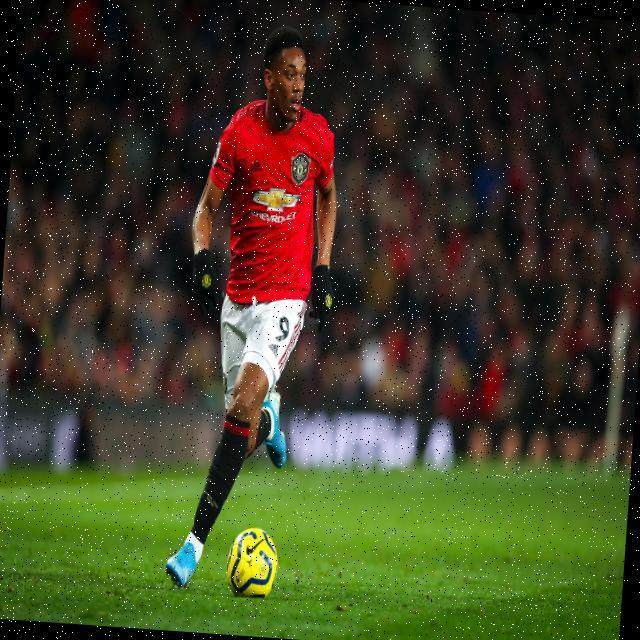Adidas: (247, 157, 263, 176)
Chevrolet: (250, 184, 302, 226)
